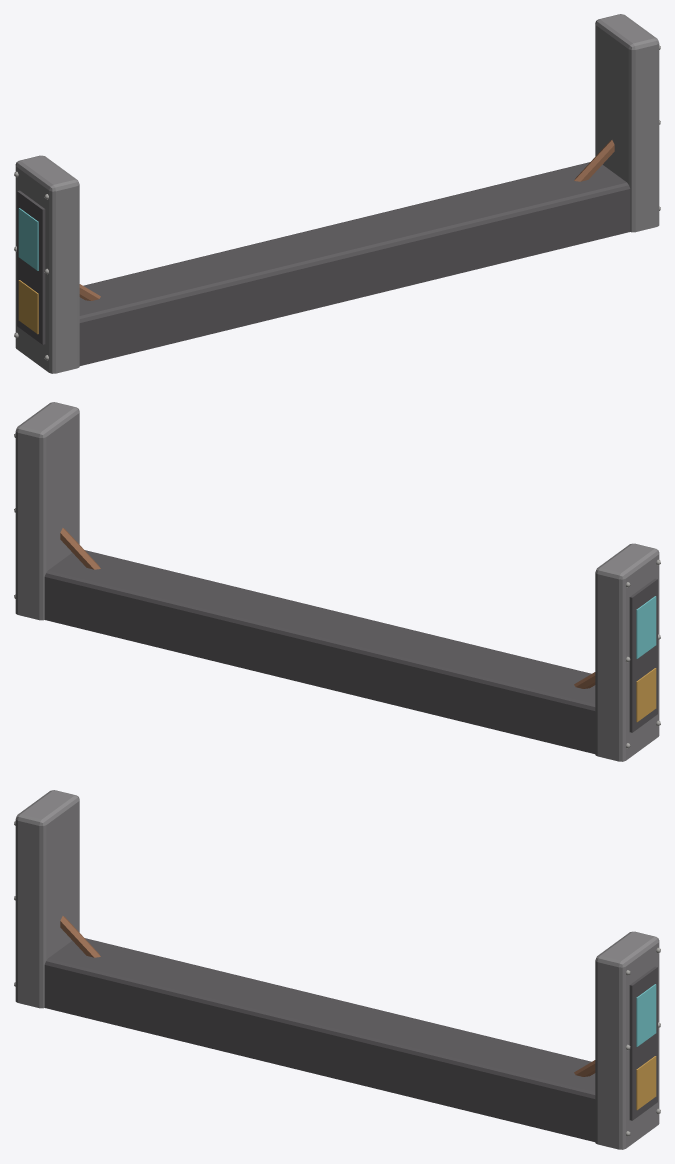
Rendered from rn2-canion-rib.glb.
The picture shows the model from 3 angles, top to bottom: view 1: azimuth 30°, elevation 25°; view 2: azimuth 150°, elevation 25°; view 3: azimuth 330°, elevation 25°; orthographic projection.
Parts seen in each view (by area): view 1: rn2_canion_rib_body, rn2_canion_rib_glow; view 2: rn2_canion_rib_body, rn2_canion_rib_glow; view 3: rn2_canion_rib_body, rn2_canion_rib_glow.
Boxes of the visible parts, box(x1,y1,x2,y2) form: rn2_canion_rib_body: box(14, 14, 660, 373); rn2_canion_rib_glow: box(18, 208, 38, 334); rn2_canion_rib_body: box(14, 402, 660, 761); rn2_canion_rib_glow: box(636, 596, 656, 722); rn2_canion_rib_body: box(14, 790, 660, 1149); rn2_canion_rib_glow: box(636, 984, 656, 1110).
Bounding box in the file's own units: 11.26 × 3.25 × 1.2.
